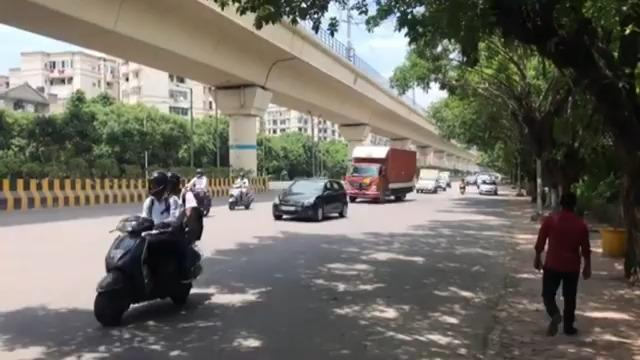Bike: (93, 168, 203, 326), (227, 171, 254, 209)
Truck: (342, 144, 417, 202)
